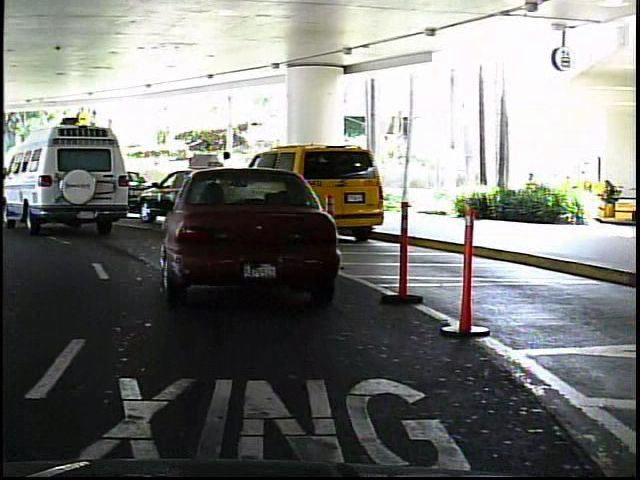person: (217, 147, 243, 215), (53, 156, 74, 199), (4, 157, 21, 198)
